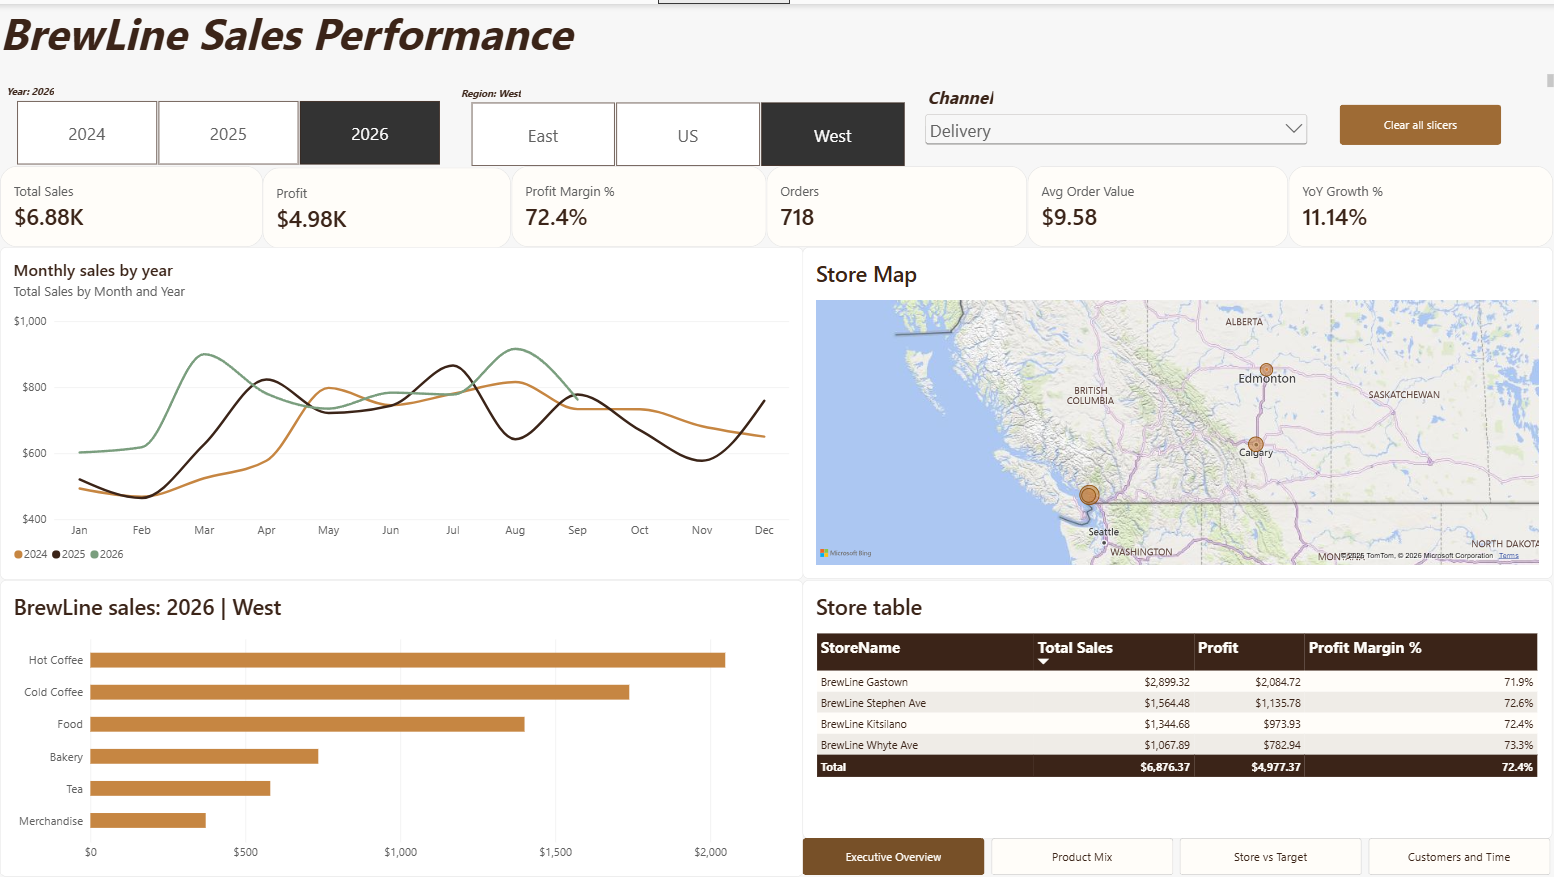

This screenshot's page, from the dashboard's own definition file:
{"tool":"powerbi","page":{"name":"Executive Overview","canvas":[1920,1080],"ordinal":0},"visuals":[{"type":"cardVisual","fields":{"Data":["_Measures.YoY Growth %"]},"box":[1592.2,202.9,328.2,97.1],"z":0},{"type":"slicer","fields":{"Values":["DimDate.Year"]},"box":[0,100,562.5,100],"z":1000},{"type":"cardVisual","fields":{"Data":["_Measures.Total Sales"]},"box":[0,202.9,325.2,97.1],"z":2000},{"type":"slicer","fields":{"Values":["DimStore.Region"]},"box":[562.5,102.5,575,100],"z":3000},{"type":"slicer","fields":{"Values":["FactSales.Channel"]},"box":[1137.5,100,482.5,100],"z":4000},{"type":"textbox","title":"BrewLine Sales Performance","box":[0,0,1920,102.5],"z":5000},{"type":"cardVisual","fields":{"Data":["_Measures.Avg Order Value"]},"box":[1269.9,202.9,322.3,97.1],"z":6000},{"type":"cardVisual","fields":{"Data":["_Measures.Orders Text"]},"box":[947.6,202.9,322.3,97.1],"z":7000},{"type":"cardVisual","fields":{"Data":["_Measures.Profit Margin %"]},"box":[632,202.9,315.5,97.1],"z":8000},{"type":"cardVisual","fields":{"Data":["_Measures.Profit"]},"box":[324.3,202.9,307.8,100],"z":9000},{"type":"lineChart","title":"Monthly sales by year","fields":{"Category":["DimDate.Month"],"Series":["DimDate.Year"],"Y":["_Measures.Total Sales"]},"box":[0,299.8,992.6,411.1],"z":10000},{"type":"map","title":"Store Map","fields":{"Size":["_Measures.Total Sales"],"X":["DimStore.Longitude"],"Y":["DimStore.Latitude"]},"box":[992.5,300,927.5,410],"z":11000},{"type":"clusteredBarChart","fields":{"Category":["DimProduct.Category"],"Y":["_Measures.Total Sales"]},"box":[0,710.9,992.6,368],"z":12000},{"type":"tableEx","title":"Store table","fields":{"Values":["DimStore.StoreName","_Measures.Total Sales","_Measures.Profit","_Measures.Profit Margin %"]},"box":[992.6,710.9,926.7,320.3],"z":13000},{"type":"pageNavigator","box":[992.6,1031.2,926.7,47.7],"z":14000},{"type":"actionButton","box":[1655.8,124.9,200,50],"z":15000}]}

Visuals, with their boxes in screenshot pixels (x1, y1, x2, y2), scaled from the page's 1920x1080 canvas onto the 1554x877 screenshot:
cardVisual - _Measures.YoY Growth %: crop(1289, 165, 1553, 244)
slicer - DimDate.Year: crop(0, 81, 455, 162)
cardVisual - _Measures.Total Sales: crop(0, 165, 263, 244)
slicer - DimStore.Region: crop(455, 83, 921, 164)
slicer - FactSales.Channel: crop(921, 81, 1311, 162)
"BrewLine Sales Performance" textbox: crop(0, 0, 1553, 83)
cardVisual - _Measures.Avg Order Value: crop(1028, 165, 1289, 244)
cardVisual - _Measures.Orders Text: crop(767, 165, 1028, 244)
cardVisual - _Measures.Profit Margin %: crop(512, 165, 767, 244)
cardVisual - _Measures.Profit: crop(262, 165, 512, 246)
"Monthly sales by year" lineChart: crop(0, 243, 803, 577)
"Store Map" map: crop(803, 244, 1553, 577)
clusteredBarChart - DimProduct.Category x _Measures.Total Sales: crop(0, 577, 803, 876)
"Store table" tableEx: crop(803, 577, 1553, 837)
pageNavigator: crop(803, 837, 1553, 876)
actionButton: crop(1340, 101, 1502, 142)
